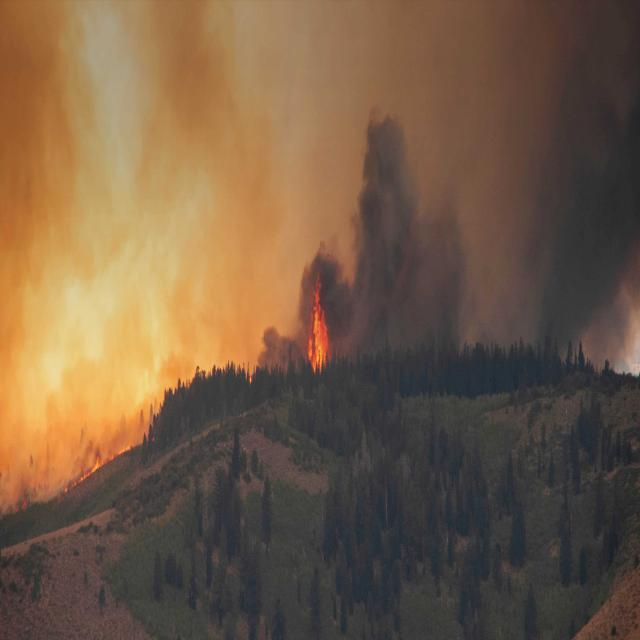Fire: (310, 302, 329, 375)
Smoke: (0, 1, 640, 515)
